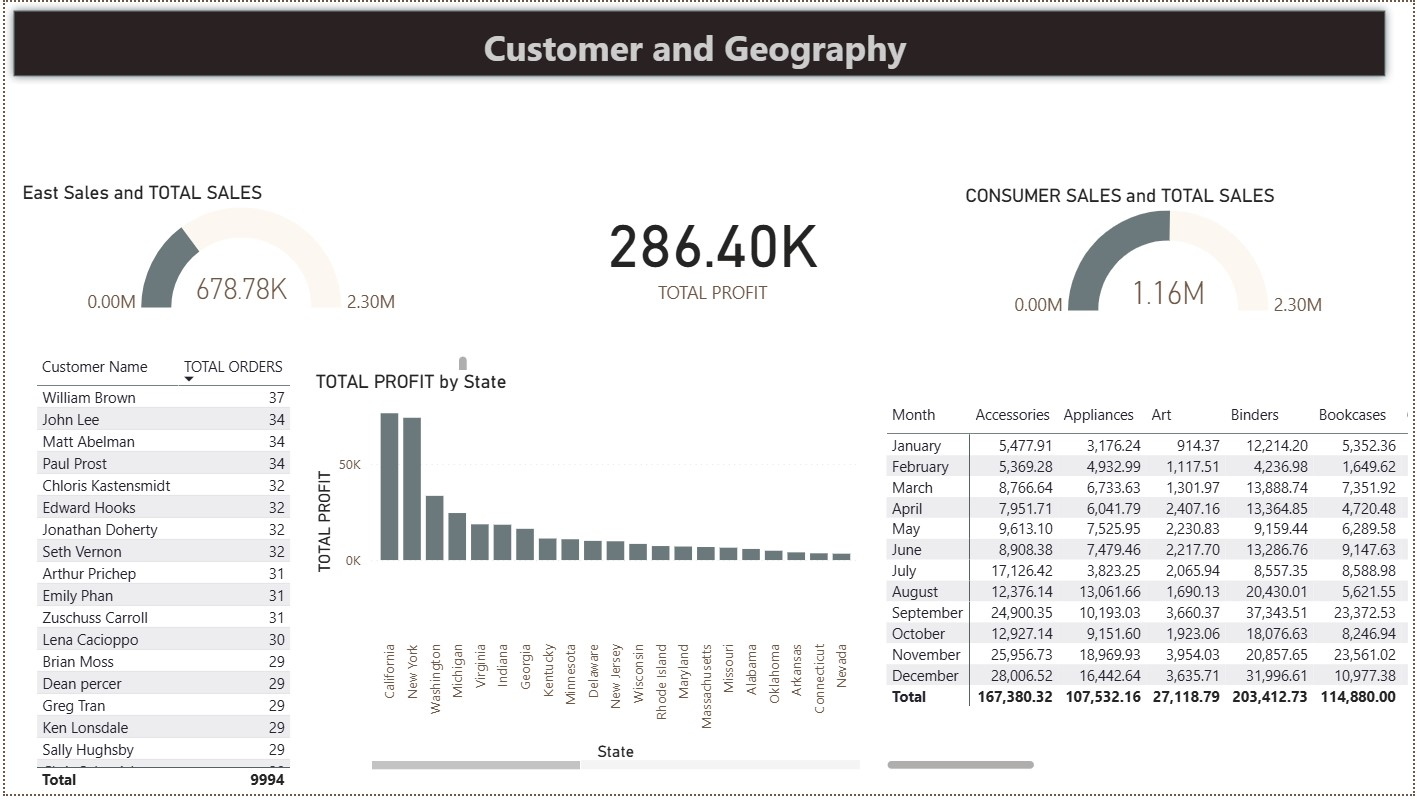

This screenshot's page, from the dashboard's own definition file:
{"tool":"powerbi","page":{"name":"Customer & Geography","canvas":[1280,720],"ordinal":1},"visuals":[{"type":"gauge","fields":{"Y":["DATE TABLE.East Sales"],"MaxValue":["DATE TABLE.TOTAL SALES"]},"box":[10.6,163.2,407.9,125],"z":0},{"type":"card","fields":{"Values":["DATE TABLE.TOTAL PROFIT"]},"box":[473.5,165.8,339.6,120.6],"z":1000},{"type":"gauge","fields":{"MaxValue":["DATE TABLE.TOTAL SALES"],"Y":["DATE TABLE.COUSUMER SALES"]},"box":[868.1,165.8,378.6,125],"z":2000},{"type":"tableEx","fields":{"Values":["Sample - Superstore.Customer Name","DATE TABLE.TOTAL ORDERS"]},"box":[22.4,316.1,402.7,403.6],"z":3000},{"type":"columnChart","fields":{"Category":["Sample - Superstore.State"],"Y":["DATE TABLE.TOTAL PROFIT"]},"box":[277.2,334.6,504.8,367.7],"z":4000},{"type":"pivotTable","fields":{"Rows":["DATE TABLE.Order Date.Variation.Date Hierarchy.Month"],"Columns":["Sample - Superstore.Sub-Category"],"Values":["DATE TABLE.TOTAL SALES"]},"box":[796.3,360,484.1,343.2],"z":5000},{"type":"shape","box":[0,0,1262.7,75.4],"z":6000},{"type":"textbox","box":[0,13.3,1254.7,62.1],"z":7000}]}

Visuals, with their boxes in screenshot pixels (x1, y1, x2, y2), scaled from the page's 1280x720 canvas onto the 1417x800 screenshot:
gauge - DATE TABLE.East Sales x DATE TABLE.TOTAL SALES: (x1=12, y1=181, x2=463, y2=320)
card - DATE TABLE.TOTAL PROFIT: (x1=524, y1=184, x2=900, y2=318)
gauge - DATE TABLE.TOTAL SALES x DATE TABLE.COUSUMER SALES: (x1=961, y1=184, x2=1380, y2=323)
tableEx - Sample - Superstore.Customer Name x DATE TABLE.TOTAL ORDERS: (x1=25, y1=351, x2=471, y2=799)
columnChart - Sample - Superstore.State x DATE TABLE.TOTAL PROFIT: (x1=307, y1=372, x2=866, y2=780)
pivotTable - DATE TABLE.Order Date.Variation.Date Hierarchy.Month x Sample - Superstore.Sub-Category: (x1=882, y1=400, x2=1416, y2=781)
shape: (x1=0, y1=0, x2=1398, y2=84)
textbox: (x1=0, y1=15, x2=1389, y2=84)
